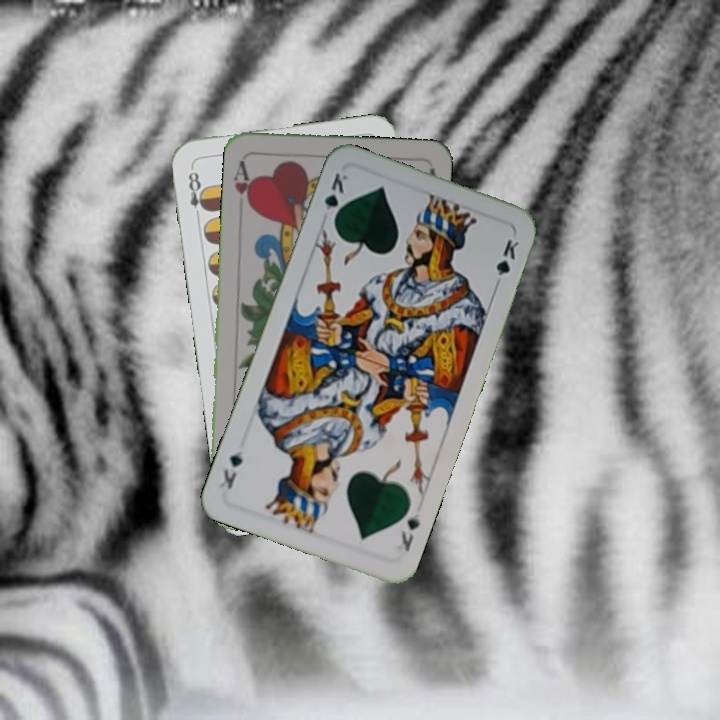E8: (184, 163, 211, 222)
GK: (319, 168, 351, 226), (390, 509, 423, 555)
HA: (229, 156, 256, 211)
